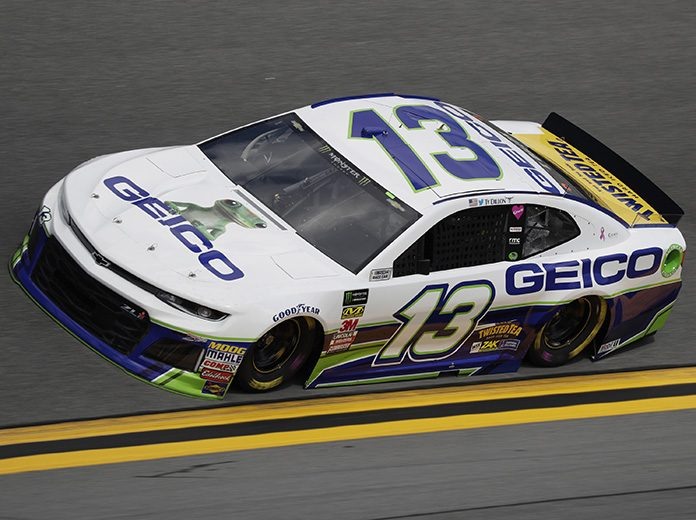Geico: (101, 162, 269, 289), (509, 246, 664, 294)
